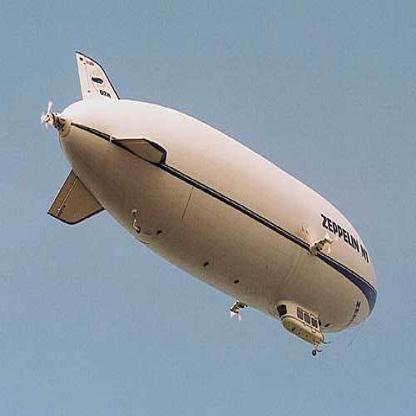Airship: (37, 48, 379, 359)
